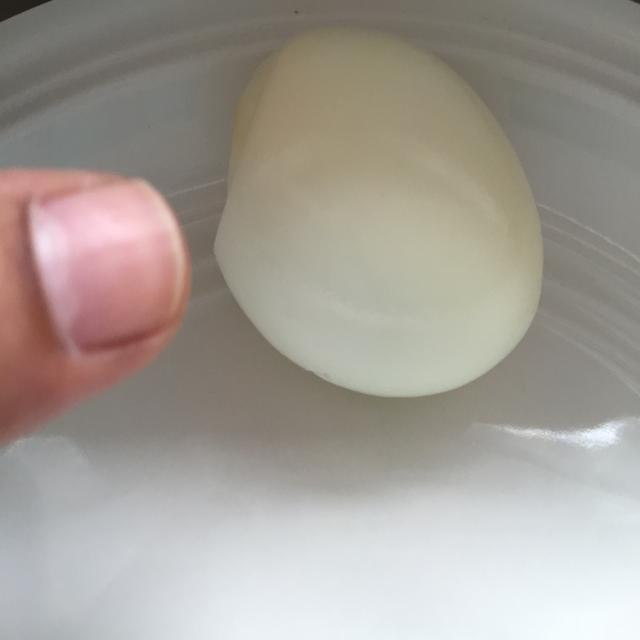Egg: (204, 22, 554, 404)
